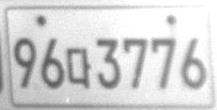3: (96, 38, 120, 88)
6: (181, 38, 207, 89), (40, 38, 65, 88)
7: (122, 37, 148, 88), (151, 38, 176, 88)
9: (13, 37, 36, 87)
다: (66, 47, 91, 89)
